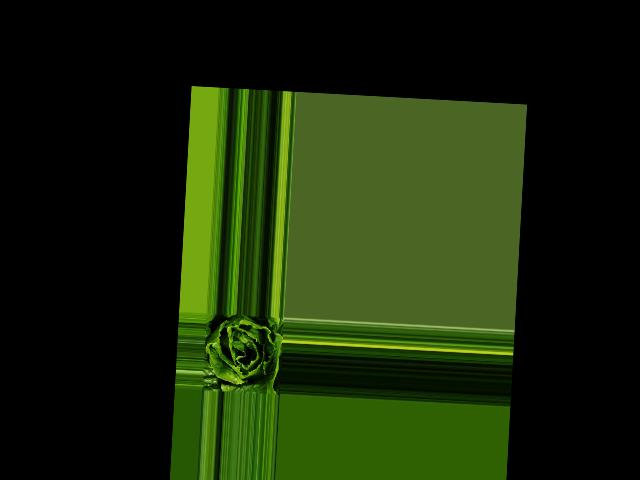lettuce: (202, 313, 283, 395)
